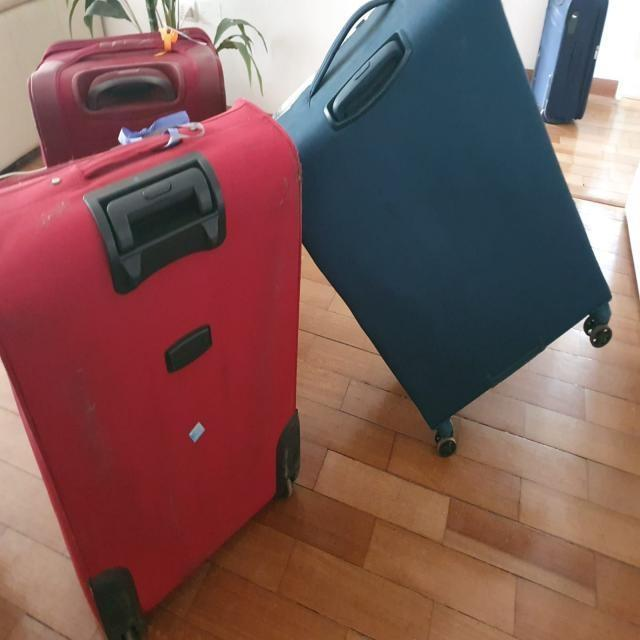Suitcase: (0, 96, 304, 640), (270, 0, 614, 459), (26, 27, 231, 166)
